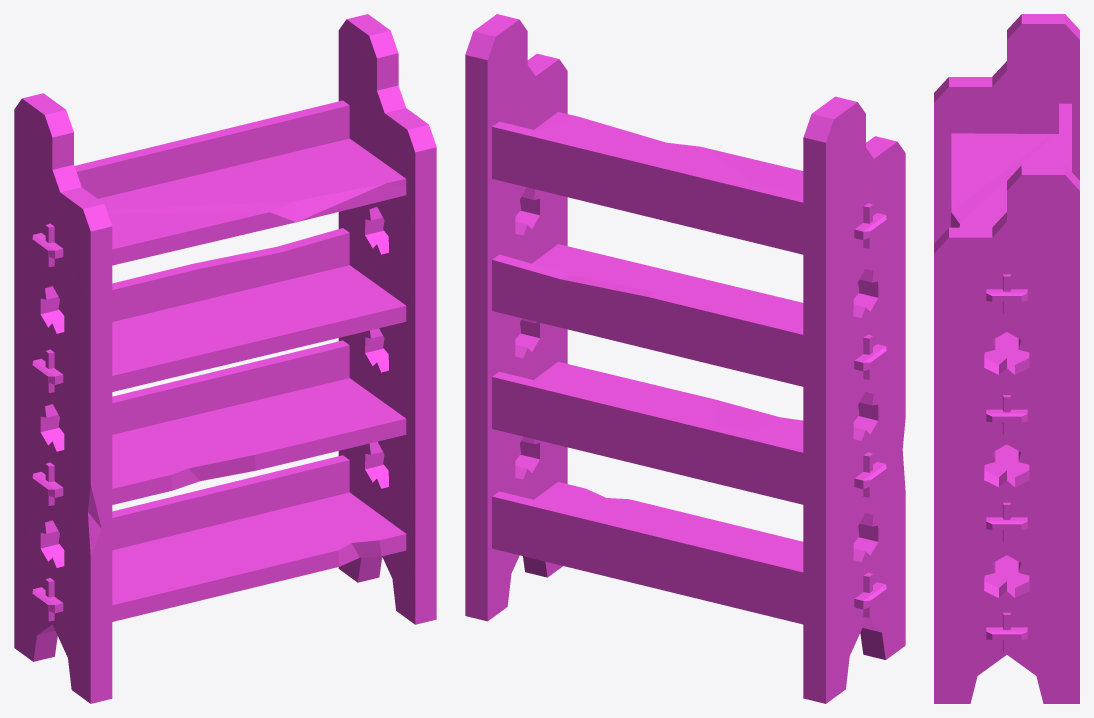
Rendered from SM_Shelf_Standing_Small_A_Fantasy.fbx.
The picture shows the model from 3 angles, left to right: view 1: azimuth 30°, elevation 25°; view 2: azimuth 150°, elevation 25°; view 3: azimuth 270°, elevation 25°; orthographic projection. The views are drawn at different scales.
Visible parts, largest first — view 1: SM_Shelf_Standing_Small_A_Fantasy; view 2: SM_Shelf_Standing_Small_A_Fantasy; view 3: SM_Shelf_Standing_Small_A_Fantasy.
Boxes of the visible parts, x1,y1,x2,y2 form: SM_Shelf_Standing_Small_A_Fantasy: (14,14,436,703); SM_Shelf_Standing_Small_A_Fantasy: (465,14,905,703); SM_Shelf_Standing_Small_A_Fantasy: (934,14,1079,703).
Size of the model in its own units: 1 by 1.44 by 0.3591.
